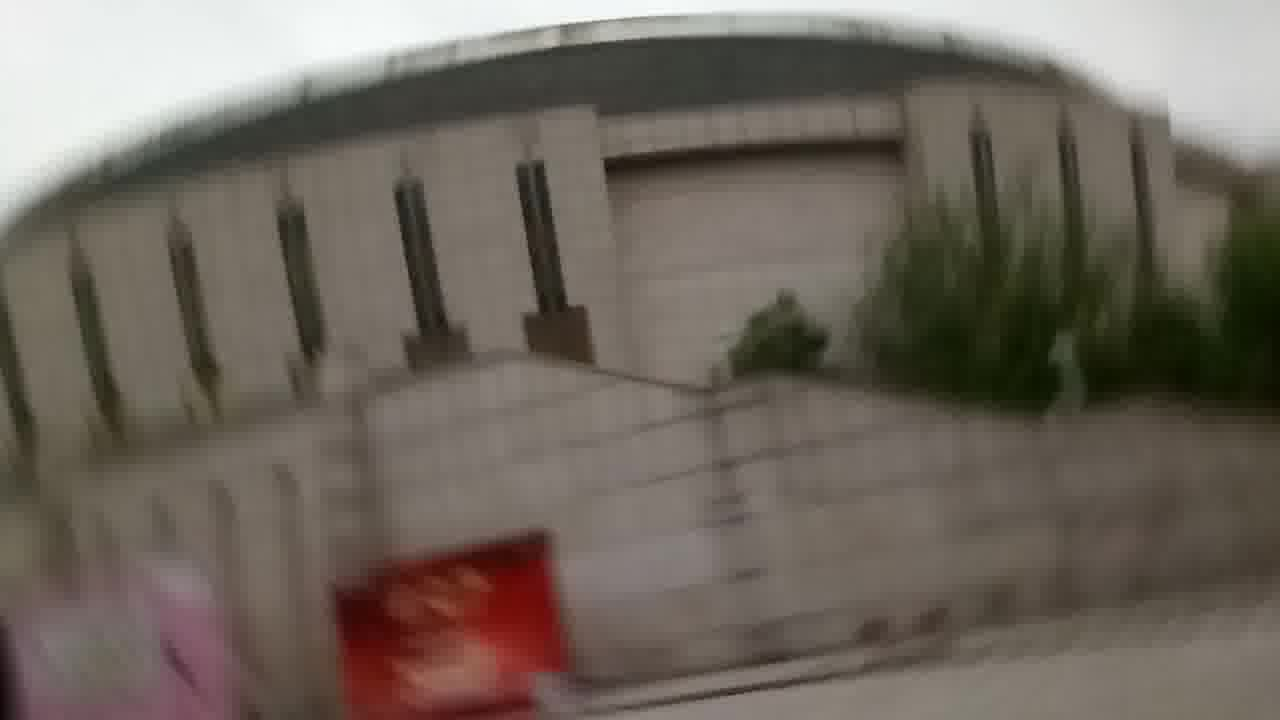zhongtiww: (31, 12, 1280, 656)
